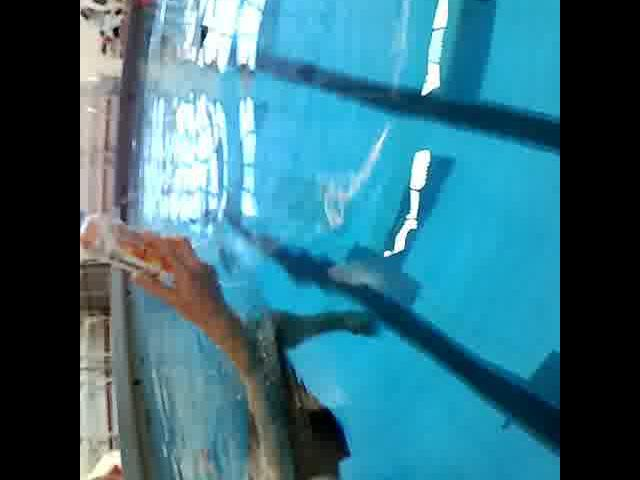Bottle: (80, 203, 174, 283)
